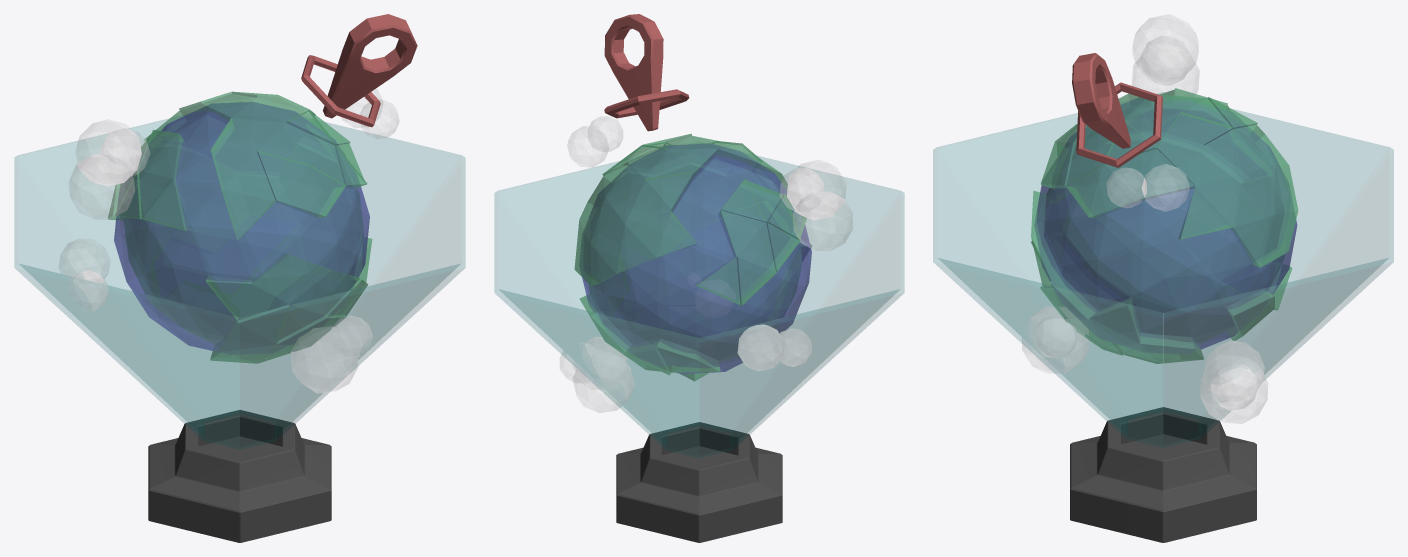
File: Hologram.fbx
3 views of the same model, side by side, from view 1: azimuth 30°, elevation 25°; view 2: azimuth 150°, elevation 25°; view 3: azimuth 270°, elevation 25° (orthographic). The views are drawn at different scales.
Parts seen in each view (by area): view 1: polySurface659, polySurface656, polySurface649, polySurface316, polySurface318, polySurface654, polySurface646, polySurface319, polySurface655, polySurface647, polySurface317, polySurface314 (+2 smaller); view 2: polySurface659, polySurface656, polySurface649, polySurface316, polySurface318, polySurface646, polySurface654, polySurface655, polySurface315, polySurface647, polySurface312, polySurface317 (+3 smaller); view 3: polySurface659, polySurface656, polySurface649, polySurface316, polySurface318, polySurface654, polySurface647, polySurface317, polySurface315, polySurface312, polySurface650, polySurface314 (+3 smaller).
Part boxes in pixels (x1,y1,x2,y2): polySurface659: (14, 119, 465, 449); polySurface656: (108, 91, 372, 363); polySurface649: (114, 102, 369, 354); polySurface316: (148, 410, 331, 542); polySurface318: (323, 14, 417, 118); polySurface654: (75, 119, 141, 185); polySurface646: (69, 154, 134, 219); polySurface319: (291, 330, 357, 393); polySurface655: (59, 238, 110, 282); polySurface647: (100, 129, 149, 176); polySurface317: (301, 55, 380, 127); polySurface314: (360, 100, 399, 138); polySurface659: (494, 156, 904, 457); polySurface656: (574, 133, 811, 381); polySurface649: (580, 143, 811, 373); polySurface316: (616, 422, 782, 542); polySurface318: (604, 14, 663, 131); polySurface646: (793, 192, 852, 250); polySurface654: (787, 160, 846, 219); polySurface655: (738, 325, 783, 370); polySurface315: (567, 126, 608, 167); polySurface647: (780, 168, 823, 211); polySurface312: (573, 364, 634, 412); polySurface317: (604, 89, 689, 118); polySurface659: (933, 92, 1393, 447); polySurface656: (1031, 88, 1298, 363); polySurface649: (1034, 97, 1297, 353); polySurface316: (1070, 407, 1256, 542); polySurface318: (1072, 53, 1130, 148); polySurface654: (1133, 14, 1198, 73); polySurface647: (1141, 36, 1190, 85); polySurface317: (1076, 82, 1162, 167); polySurface315: (1142, 164, 1189, 211); polySurface312: (1201, 375, 1267, 423); polySurface650: (1211, 364, 1256, 410); polySurface314: (1107, 168, 1146, 207).
Size of the model in its own units: 6.98 by 7.14 by 6.05.
